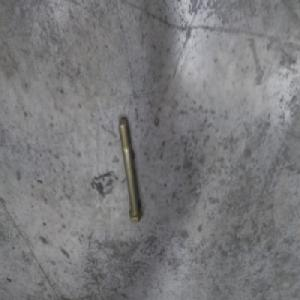Bolt: (115, 115, 140, 222)
